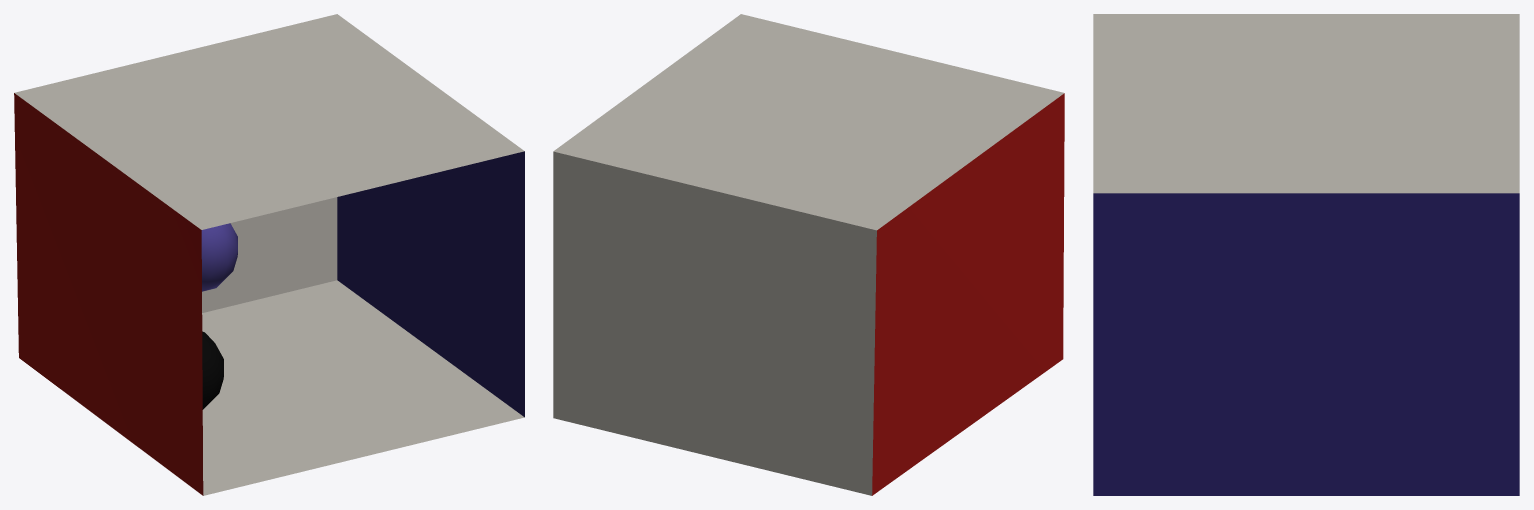
Rendered from CornellBox-Sphere-782.obj.
The picture shows the model from 3 angles, left to right: view 1: azimuth 30°, elevation 25°; view 2: azimuth 150°, elevation 25°; view 3: azimuth 270°, elevation 25°; orthographic projection. The views are drawn at different scales.
Visible parts, largest first — view 1: ceiling, leftWall, floor, rightWall, backWall, leftSphere, rightSphere; view 2: backWall, ceiling, leftWall; view 3: rightWall, ceiling.
Part boxes in pixels (box(x1,y1,x2,y2)): ceiling: box(14, 14, 524, 229); leftWall: box(14, 93, 203, 495); floor: box(202, 280, 524, 495); rightWall: box(337, 151, 524, 417); backWall: box(202, 197, 337, 312); leftSphere: box(201, 223, 237, 291); rightSphere: box(202, 331, 223, 409); backWall: box(553, 151, 876, 495); ceiling: box(553, 14, 1064, 230); leftWall: box(872, 93, 1064, 495); rightWall: box(1093, 193, 1519, 495); ceiling: box(1093, 14, 1519, 193).
Bounding box in the file's own units: 2.02 × 1.59 × 2.03.
